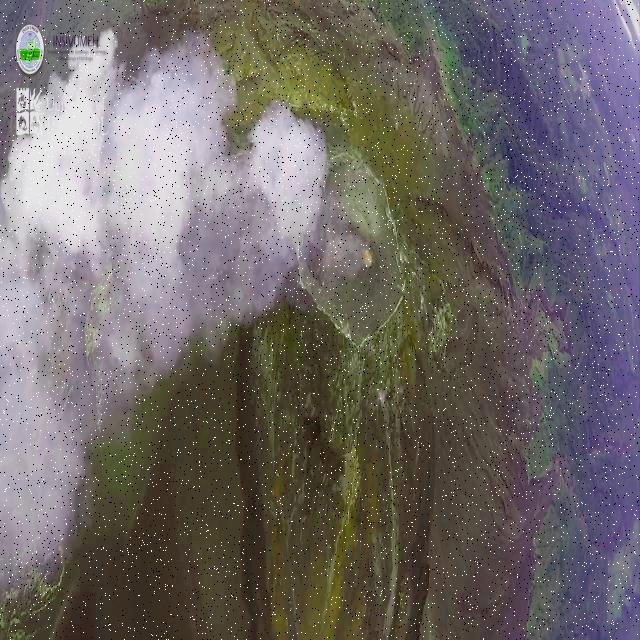Plume: (1, 36, 319, 579)
Summit: (294, 130, 428, 372)
